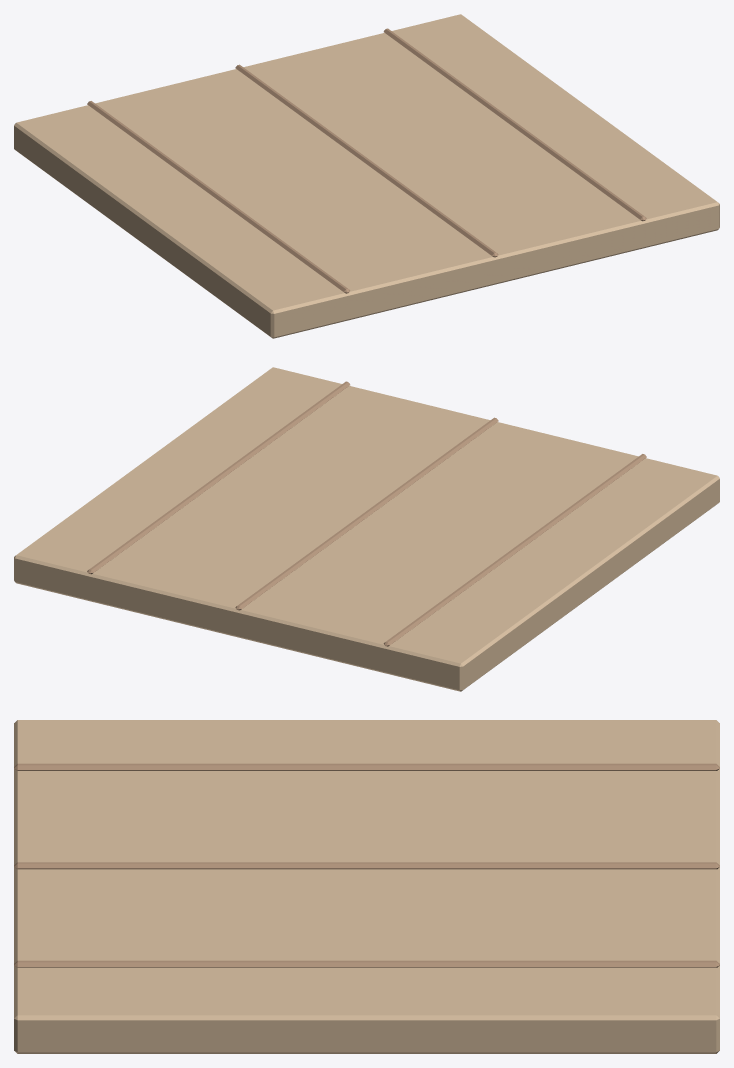
File: SM_Deck_Tile.fbx
3 renders of one model, top to bottom at view 1: azimuth 30°, elevation 25°; view 2: azimuth 150°, elevation 25°; view 3: azimuth 270°, elevation 25°, orthographic. The views are drawn at different scales.
Visible parts, largest first — view 1: Deck_Tile; view 2: Deck_Tile; view 3: Deck_Tile.
Part boxes in pixels (x1,y1,x2,y2): Deck_Tile: [14, 14, 719, 338]; Deck_Tile: [14, 367, 719, 691]; Deck_Tile: [14, 720, 719, 1053].
Size of the model in its own units: 200 by 13.5 by 200.
